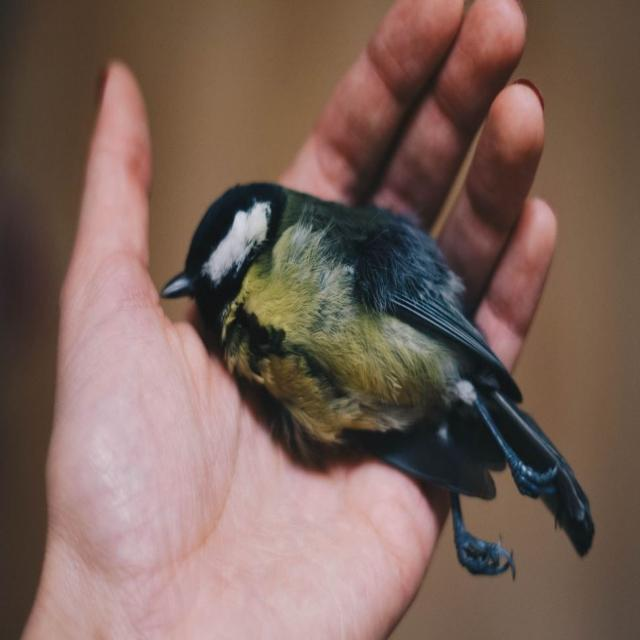Bangkai Burung: (147, 146, 615, 611)
